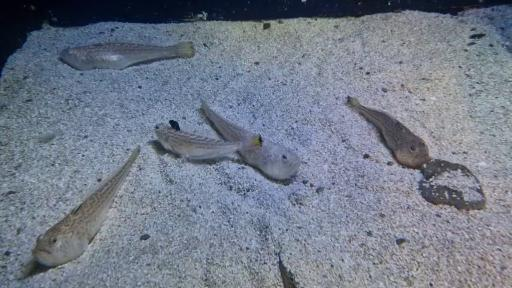Fish: (32, 146, 140, 267), (347, 97, 431, 168), (155, 121, 261, 159), (60, 42, 195, 70), (239, 139, 301, 180), (278, 252, 297, 287), (169, 120, 180, 131)
